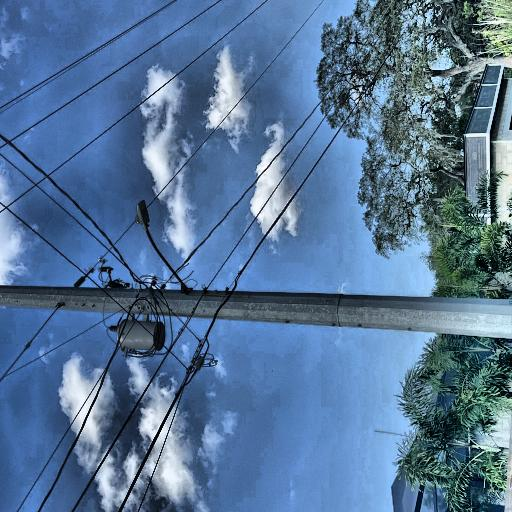pole: (36, 0, 114, 512)
street light: (91, 263, 181, 330)
transformer: (42, 243, 72, 298)
